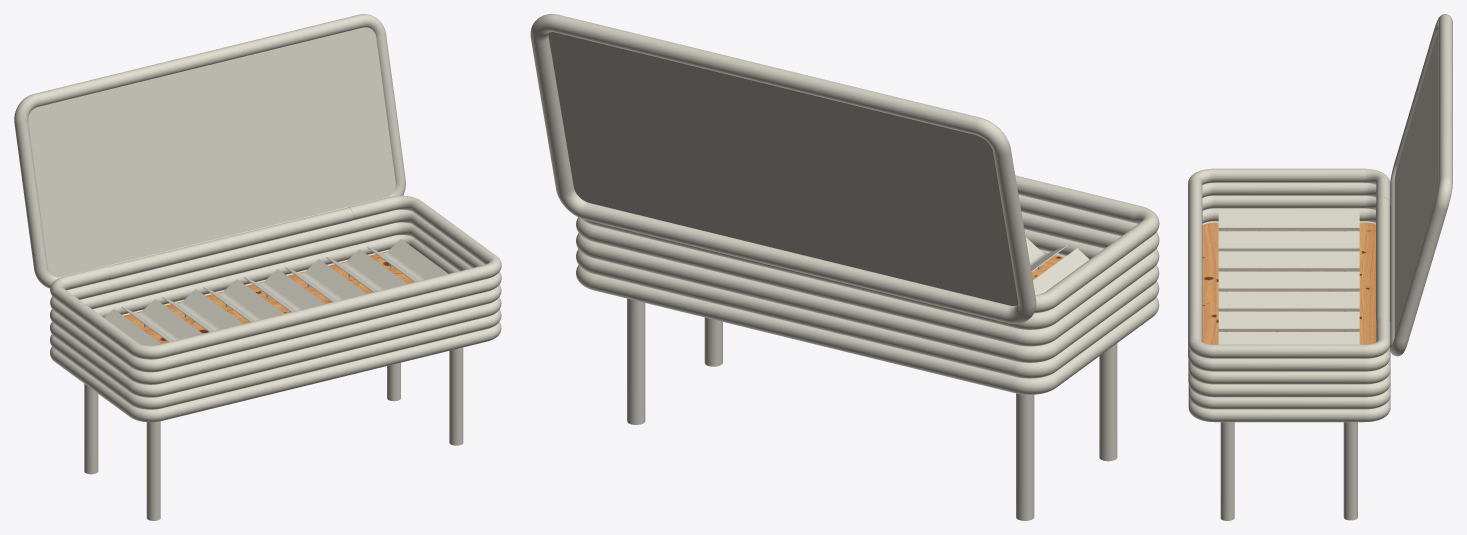
File: powder-coated-steel.glb
The picture shows the model from 3 angles, left to right: view 1: azimuth 30°, elevation 25°; view 2: azimuth 150°, elevation 25°; view 3: azimuth 270°, elevation 25°; orthographic projection. The views are drawn at different scales.
Parts seen in each view (by area): view 1: COUVERCLE, N5.3 (×2), N5.1, Booléen, N5, N5.5, N5.4, charnière N2/N1, double fond, Cylindre.5, Extrusion.1, Extrusion.7 (+8 smaller); view 2: COUVERCLE, N5.3 (×2), N5, N5.5, N5.4, N5.1, Booléen, Cylindre.4, Cylindre.6, Cylindre.5, Extrusion, Cylindre.7; view 3: N5.3 (×2), Booléen, COUVERCLE, N5.1, double fond, N5, Extrusion.5, Extrusion.2, Extrusion.1, Extrusion.4, Extrusion.3, Extrusion (+6 smaller).
Part boxes in pixels (x1,y1,x2,y2): COUVERCLE: (28, 27, 395, 277); N5.3 (×2): (14, 14, 501, 384); N5.1: (50, 209, 501, 372); Booléen: (50, 195, 501, 359); N5: (50, 235, 501, 397); N5.5: (50, 322, 501, 422); N5.4: (50, 249, 501, 409); charnière N2/N1: (106, 207, 353, 280); double fond: (123, 251, 413, 343); Cylindre.5: (146, 421, 160, 520); Extrusion.1: (121, 299, 202, 341); Extrusion.7: (367, 239, 448, 281); COUVERCLE: (548, 32, 1018, 305); N5.3 (×2): (530, 14, 1159, 346); N5: (576, 229, 1159, 362); N5.5: (576, 265, 1159, 394); N5.4: (576, 249, 1159, 378); N5.1: (582, 195, 1159, 329); Booléen: (1015, 175, 1159, 313); Cylindre.4: (1016, 393, 1034, 520); Cylindre.6: (627, 298, 645, 424); Cylindre.5: (1099, 343, 1117, 461); Extrusion: (1033, 248, 1089, 294); Cylindre.7: (704, 317, 722, 366); N5.3 (×2): (1188, 14, 1452, 384); Booléen: (1188, 168, 1390, 358); COUVERCLE: (1394, 29, 1438, 336); N5.1: (1188, 182, 1390, 371); double fond: (1202, 222, 1376, 344); N5: (1188, 208, 1390, 397); Extrusion.5: (1218, 311, 1359, 331); Extrusion.2: (1218, 251, 1359, 271); Extrusion.1: (1218, 231, 1359, 251); Extrusion.4: (1218, 291, 1359, 311); Extrusion.3: (1218, 271, 1359, 291); Extrusion: (1218, 211, 1359, 230).
Size of the model in its own units: 0.9155 by 0.8159 by 0.563.
Materials: 2 (1 with a texture image).
